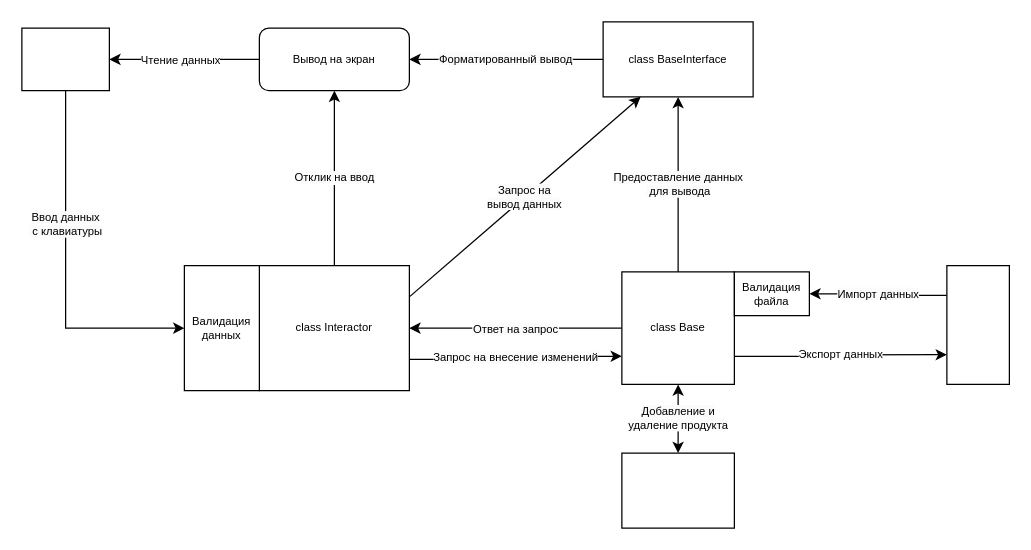
Image size: 1031x550. Some labels were removed from this diagram. The centre of each missing label's shape, as x and y in pixels:
class Food: the point at 677,490
file.base: the point at 977,324
Пользователь: the point at 65,59
